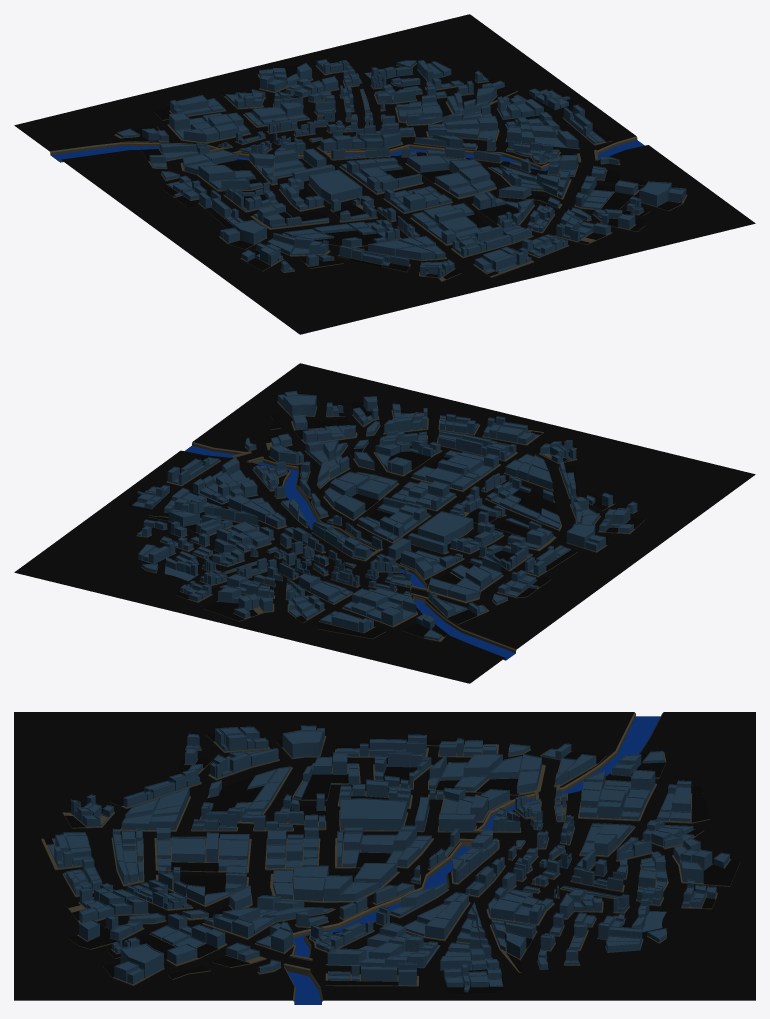
Rendered from baseplate_v3.obj.
3 renders of one model, top to bottom at view 1: azimuth 30°, elevation 25°; view 2: azimuth 150°, elevation 25°; view 3: azimuth 270°, elevation 25°, orthographic. The views are drawn at different scales.
Parts seen in each view (by area): view 1: baseplate1, buildings2, pavement1; view 2: baseplate1, buildings2, pavement1; view 3: baseplate1, buildings2, pavement1.
Boxes of the visible parts, <box> form: baseplate1: <box>14,14,755,334</box>; buildings2: <box>116,59,686,278</box>; pavement1: <box>114,61,687,281</box>; baseplate1: <box>14,363,755,683</box>; buildings2: <box>132,390,637,640</box>; pavement1: <box>127,400,645,641</box>; baseplate1: <box>14,712,755,1004</box>; buildings2: <box>48,725,729,992</box>; pavement1: <box>41,733,740,993</box>.
Size of the model in its own units: 26 by 0.8531 by 28.26.
